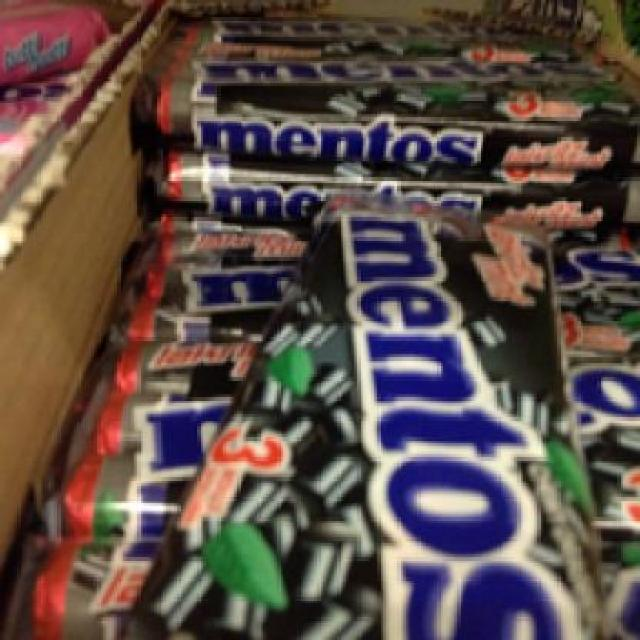Candy: (191, 185, 564, 638), (137, 6, 623, 194)
